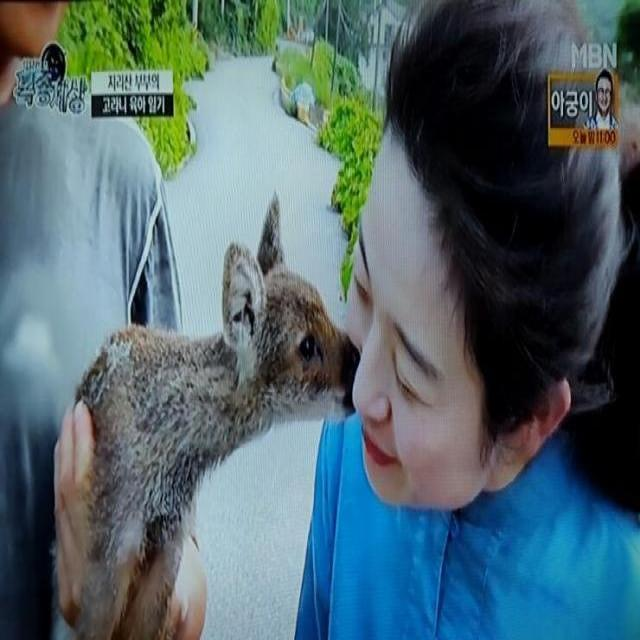deer: (62, 185, 362, 640)
